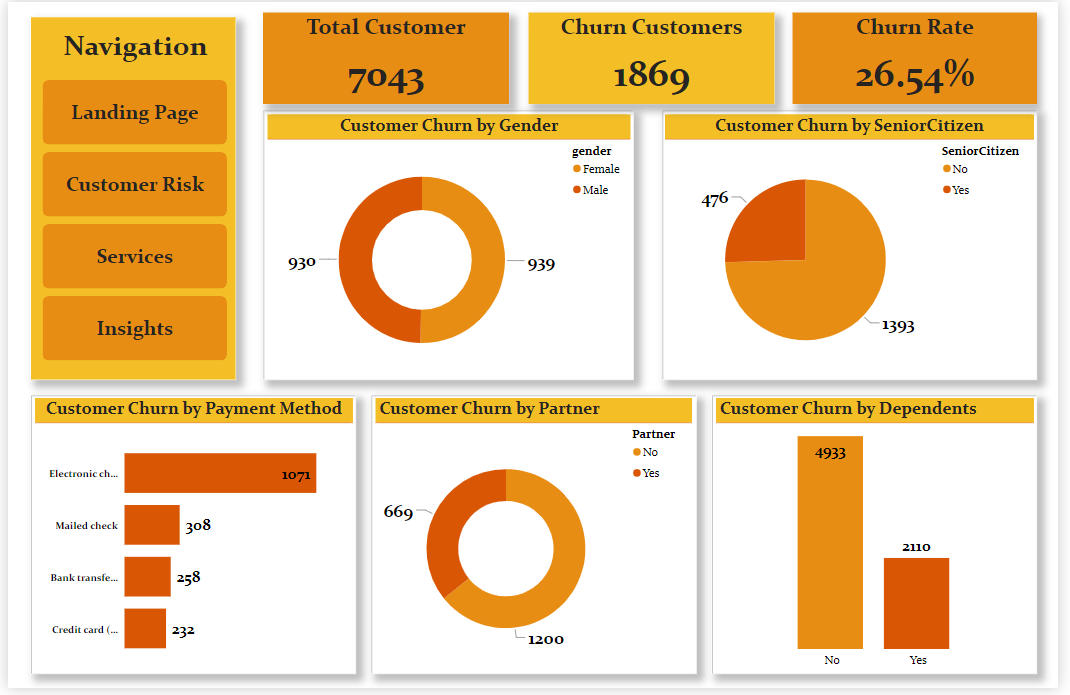

This screenshot's page, from the dashboard's own definition file:
{"tool":"powerbi","page":{"name":"Customer Churn","canvas":[1400,915],"ordinal":1},"visuals":[{"type":"shape","box":[484,524,434,372],"z":0},{"type":"shape","box":[938,524,434,372],"z":1000},{"type":"shape","box":[872,144,500,360],"z":2000},{"type":"shape","box":[340,144,494,360],"z":3000},{"type":"shape","box":[30,20,274,484],"z":4000},{"type":"shape","box":[30,524,434,372],"z":5000},{"type":"shape","box":[550,990,734,394],"z":6000},{"type":"shape","box":[1300,990,578,394],"z":7000},{"type":"clusteredBarChart","title":"Customer Churn by Payment Method","fields":{"Category":["Churn.PaymentMethod"],"Y":["Dax Measure.Total Churn"]},"box":[36,528,424,368],"z":8000},{"type":"donutChart","title":"Customer Churn by Gender","fields":{"Category":["Customer Information.gender"],"Y":["Dax Measure.Churn Customers"]},"box":[346,150,484,354],"z":9000},{"type":"pieChart","title":"Customer Churn by  SeniorCitizen","fields":{"Category":["Customer Information.SeniorCitizen"],"Y":["Dax Measure.Total Churn"]},"box":[876,150,492,354],"z":10000},{"type":"columnChart","title":"Customer Churn by Dependents","fields":{"Category":["Customer Information.Dependents"],"Y":["Dax Measure.Total Customers"]},"box":[944,528,424,368],"z":11000},{"type":"donutChart","title":"Customer Churn by Partner","fields":{"Category":["Customer Information.Partner"],"Y":["Dax Measure.Churn Customers"]},"box":[490,528,422,368],"z":12000},{"type":"shape","box":[340,14,328,122],"z":13000},{"type":"shape","box":[694,14,328,122],"z":14000},{"type":"card","title":"Total Customer","fields":{"Values":["Dax Measure.Total Customers"]},"box":[340,14,328,122],"z":15000},{"type":"card","title":"Churn Customers","fields":{"Values":["Dax Measure.Churn Customers"]},"box":[694,14,328,122],"z":16000},{"type":"shape","box":[1046,14,322,122],"z":17000},{"type":"card","title":"Churn Rate","fields":{"Values":["Dax Measure.Churn Rate"]},"box":[1046,14,326,122],"z":18000},{"type":"pageNavigator","box":[46,104,246,376],"z":19000},{"type":"textbox","box":[20,30,300,64],"z":20000}]}

Visuals, with their boxes in screenshot pixels (x1, y1, x2, y2), scaled from the page's 1400x915 canvas onto the 1070x695 screenshot:
shape: pyautogui.locateOnScreen(370, 398, 702, 681)
shape: pyautogui.locateOnScreen(717, 398, 1049, 681)
shape: pyautogui.locateOnScreen(666, 109, 1049, 383)
shape: pyautogui.locateOnScreen(260, 109, 637, 383)
shape: pyautogui.locateOnScreen(23, 15, 232, 383)
shape: pyautogui.locateOnScreen(23, 398, 355, 681)
"Customer Churn by Payment Method" clusteredBarChart: pyautogui.locateOnScreen(28, 401, 352, 681)
"Customer Churn by Gender" donutChart: pyautogui.locateOnScreen(264, 114, 634, 383)
"Customer Churn by  SeniorCitizen" pieChart: pyautogui.locateOnScreen(670, 114, 1046, 383)
"Customer Churn by Dependents" columnChart: pyautogui.locateOnScreen(721, 401, 1046, 681)
"Customer Churn by Partner" donutChart: pyautogui.locateOnScreen(374, 401, 697, 681)
shape: pyautogui.locateOnScreen(260, 11, 511, 103)
shape: pyautogui.locateOnScreen(530, 11, 781, 103)
"Total Customer" card: pyautogui.locateOnScreen(260, 11, 511, 103)
"Churn Customers" card: pyautogui.locateOnScreen(530, 11, 781, 103)
shape: pyautogui.locateOnScreen(799, 11, 1046, 103)
"Churn Rate" card: pyautogui.locateOnScreen(799, 11, 1049, 103)
pageNavigator: pyautogui.locateOnScreen(35, 79, 223, 365)
textbox: pyautogui.locateOnScreen(15, 23, 245, 71)
